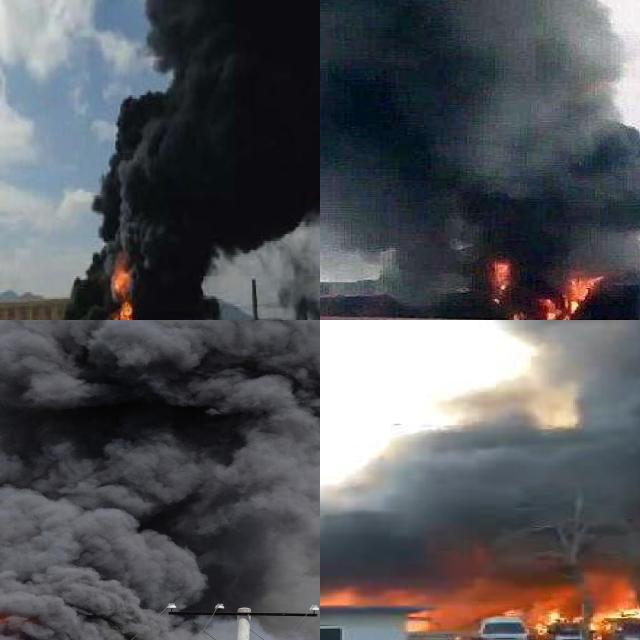fire: (524, 581, 640, 631), (528, 268, 599, 320), (109, 262, 133, 320), (488, 258, 514, 307)
smoke: (0, 320, 320, 640), (320, 320, 640, 606), (320, 0, 640, 283), (63, 0, 320, 320)
